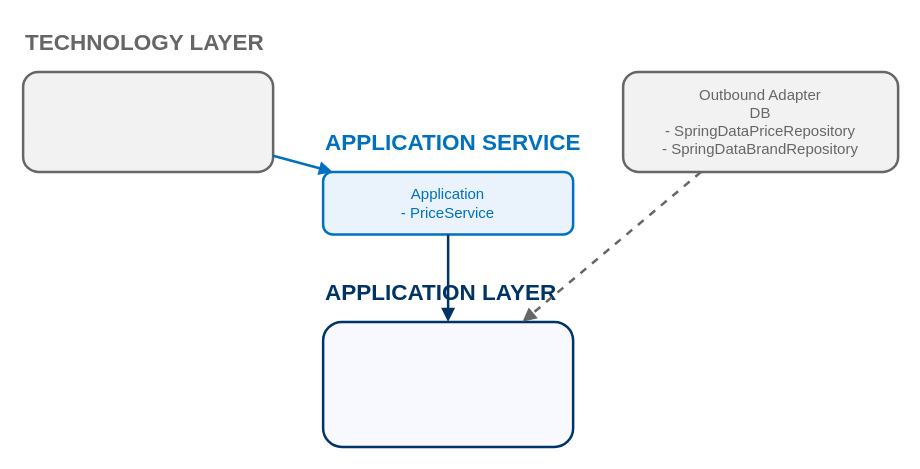
This 920x469 diagram has some shape labels left out. Here are the shapes that lost their labels. From the top down, the centre of each, then its label:
At pixel 147 121: "Inbound Adapter REST - PriceControllerImpl".
At pixel 447 384: "Domain - Price - Brand - PriceRepository -BrandRepository".
